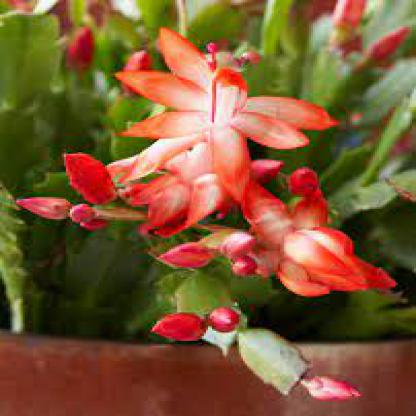Aglonema: (24, 16, 416, 386)
